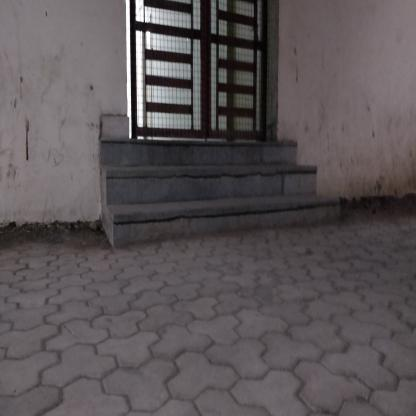stairs: (119, 138, 298, 236)
